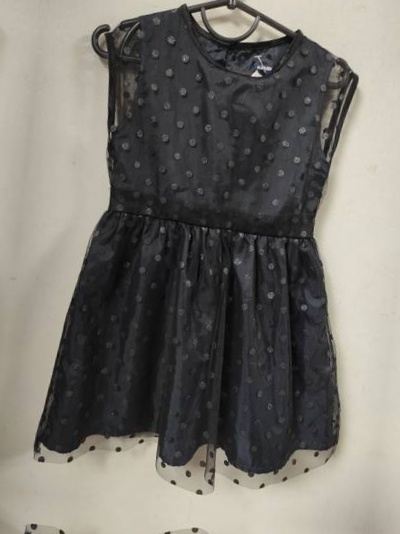Dress: (14, 0, 391, 493), (0, 0, 25, 451), (0, 525, 330, 534)
